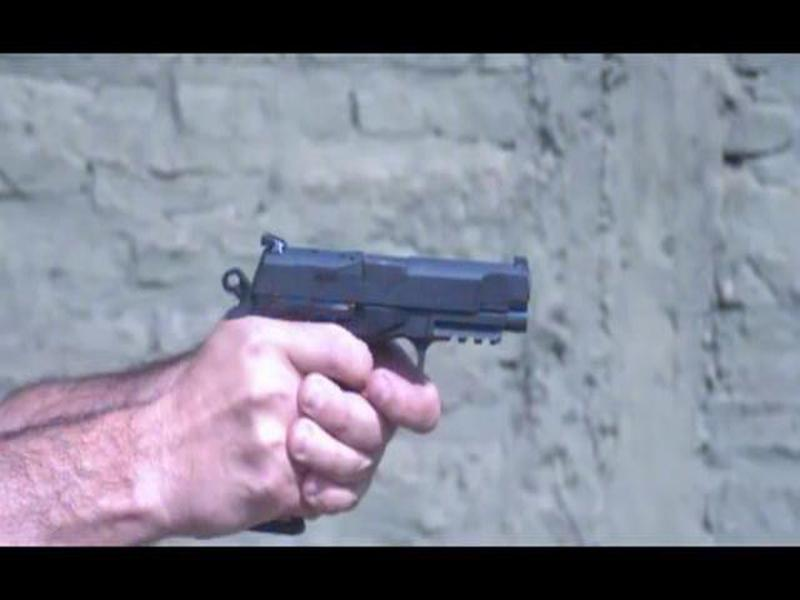Pistola: (166, 244, 558, 533)
